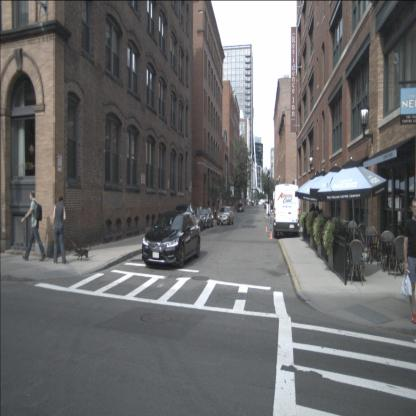human-pedestrian-adult: (400, 197, 416, 327), (21, 190, 46, 262), (52, 195, 67, 265), (309, 202, 317, 226), (315, 205, 322, 227)
movable_object-trafficcone: (270, 232, 273, 239), (265, 226, 268, 232)
vehicle-car: (142, 211, 200, 269), (169, 204, 197, 230), (185, 206, 206, 232), (197, 207, 214, 228), (217, 207, 234, 225), (237, 203, 244, 212), (264, 202, 271, 210)
vehicle-truck: (273, 184, 300, 238)
